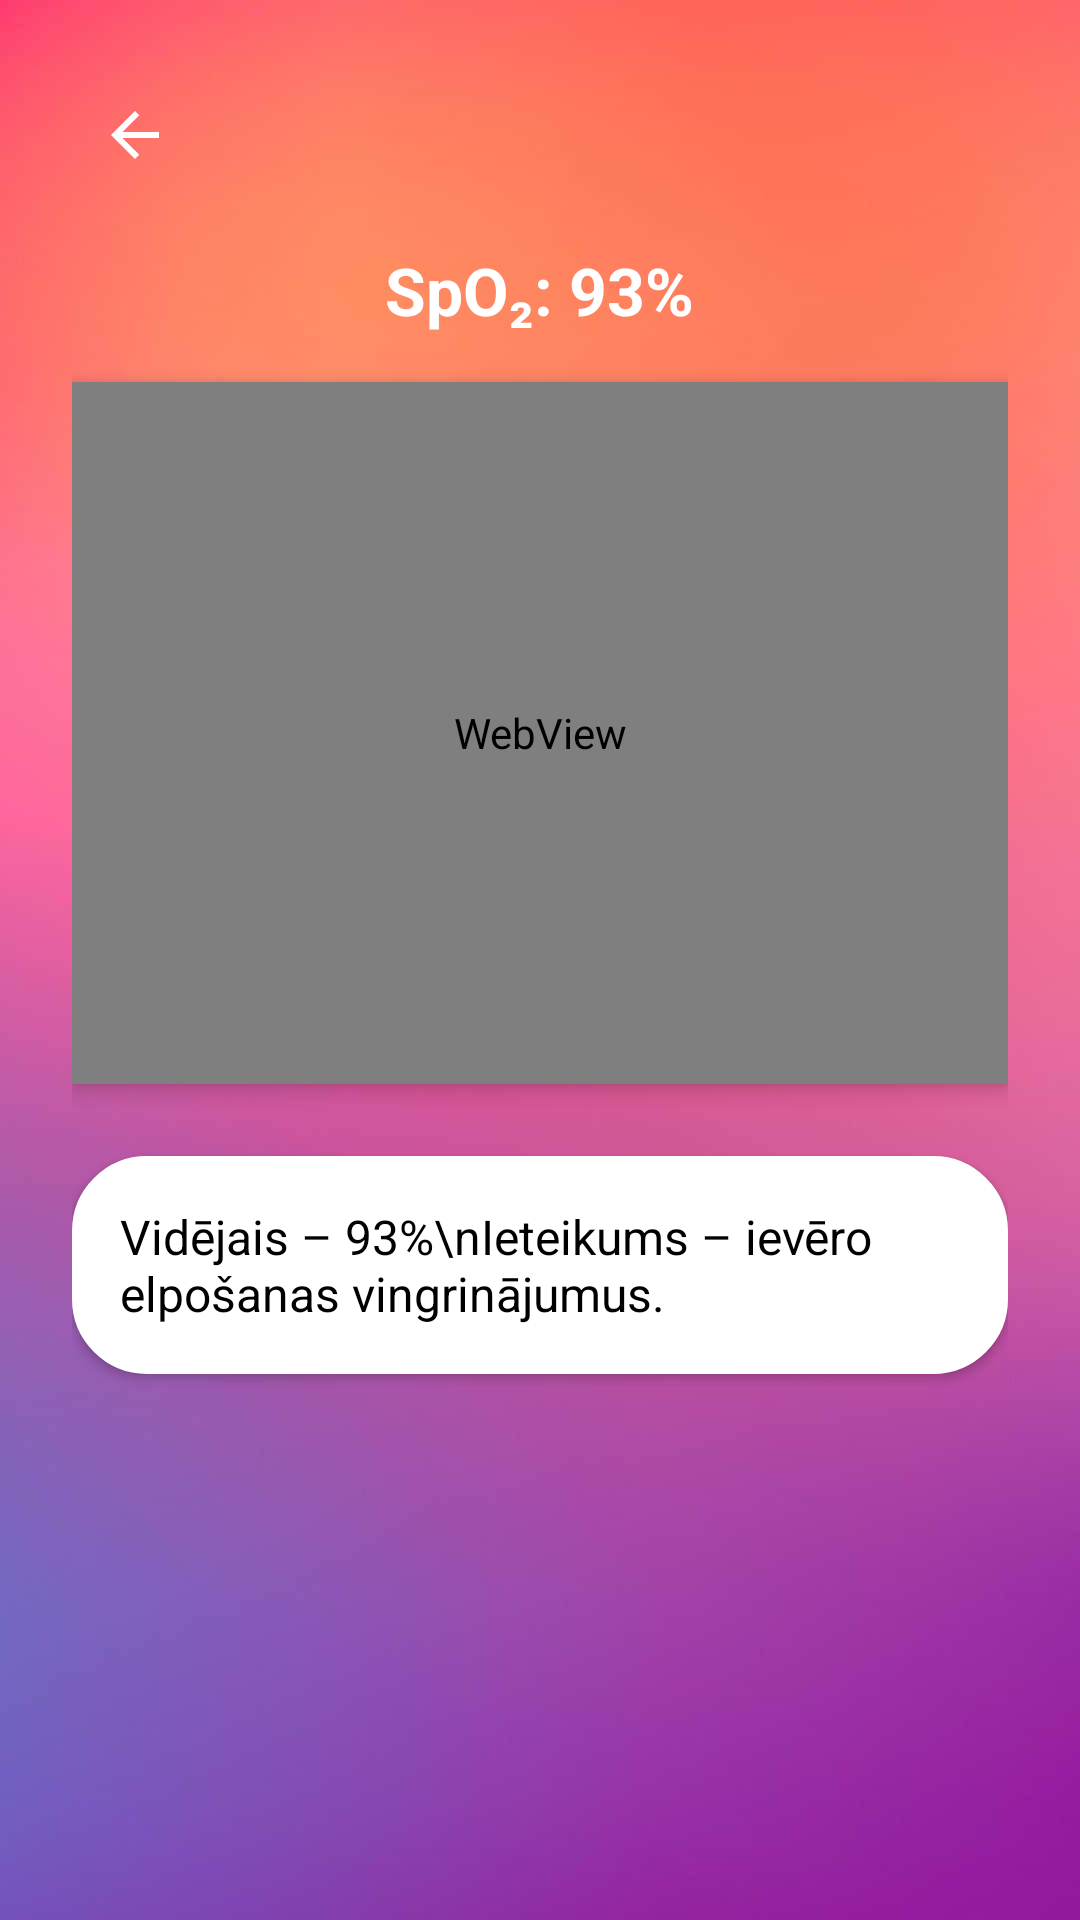

Where icons sit on this 1080w x 1920h app screen, as {"left": x1, "top": y1, "right": x2, "bottom": y2}:
Atpakaļ: {"left": 111, "top": 111, "right": 159, "bottom": 159}
